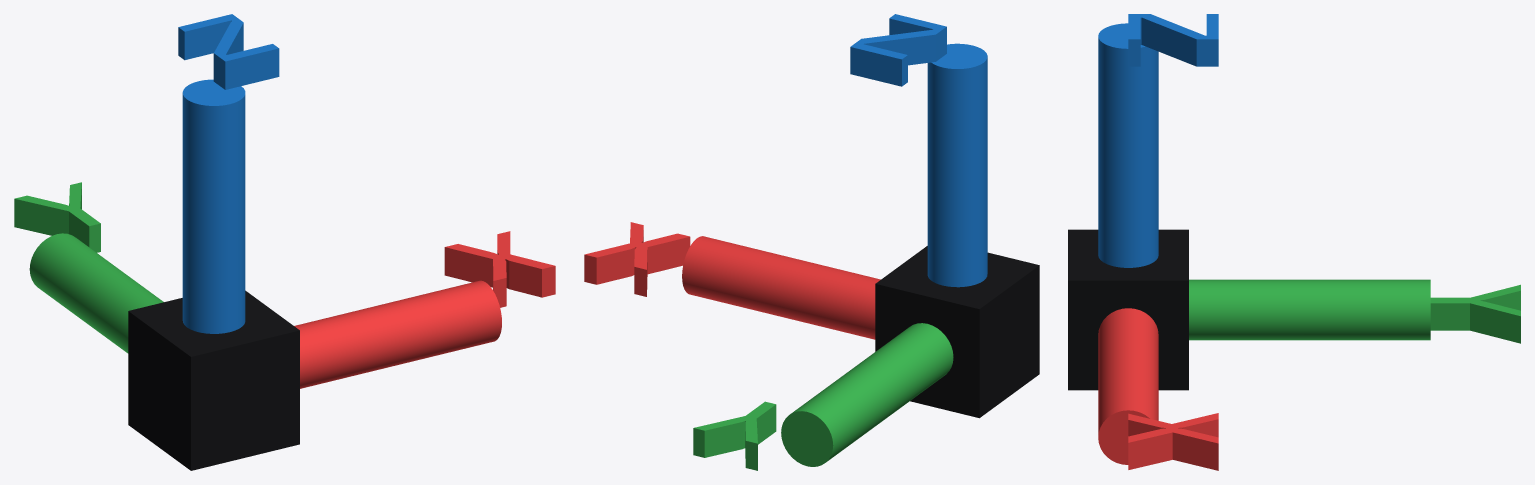
The model's file is Axis.fbx.
3 views of the same model, side by side, from view 1: azimuth 30°, elevation 25°; view 2: azimuth 150°, elevation 25°; view 3: azimuth 270°, elevation 25° (orthographic). The views are drawn at different scales.
Visible parts, largest first — view 1: Axis, Z, Text.002, Y; view 2: Axis, Z, Text.002, Y; view 3: Axis, Text.002, Y, Z.
Boxes of the visible parts, box(x1,y1,x2,y2) form: Axis: box(29, 79, 501, 470); Z: box(178, 14, 279, 89); Text.002: box(444, 231, 555, 307); Y: box(14, 182, 100, 252); Axis: box(682, 43, 1039, 466); Z: box(850, 14, 946, 86); Text.002: box(584, 222, 690, 296); Y: box(693, 401, 776, 470); Axis: box(1068, 23, 1430, 464); Text.002: box(1128, 413, 1218, 470); Y: box(1430, 284, 1520, 343); Z: box(1128, 14, 1218, 66).
Size of the model in its own units: 146 by 130 by 150.
